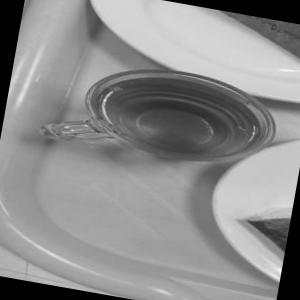tea: (65, 41, 298, 197)
